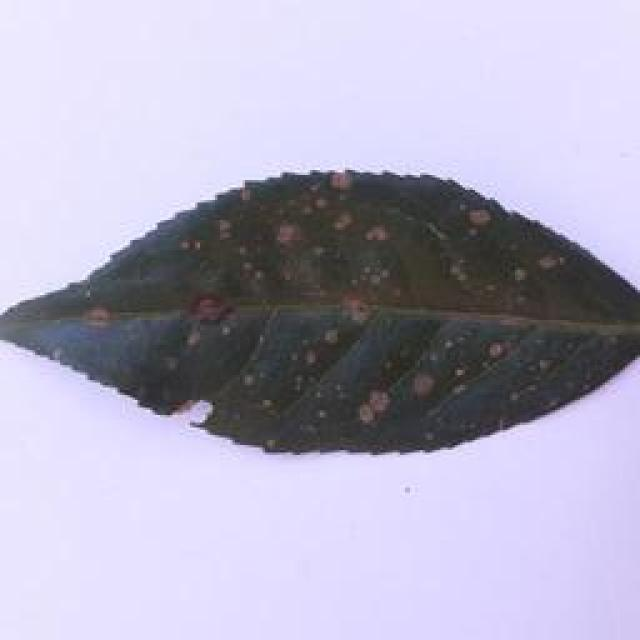Algal Leaf Spot: (6, 158, 640, 462)
